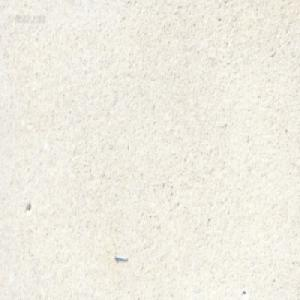Nail: (113, 251, 127, 261)
